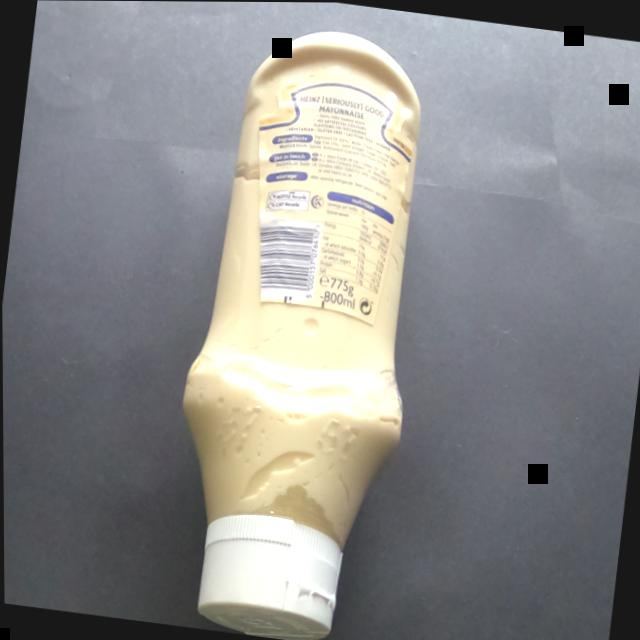Mayonnaise: (145, 1, 496, 640)
